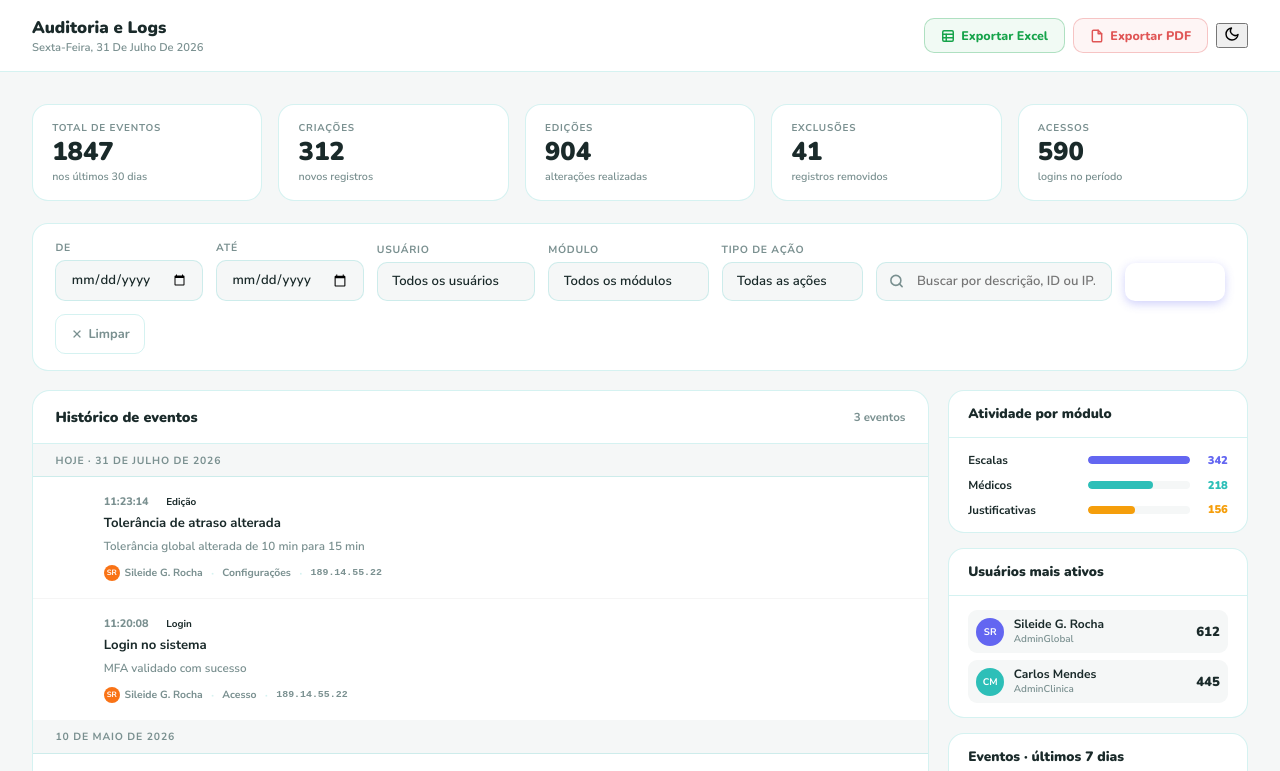
Test: <AdminAuditoria /> › fecha panel de detalhes ao clicar no X
Click the element with class "aud-log-item" that starts with "Edição" at (480, 538), box [33,477,928,599]
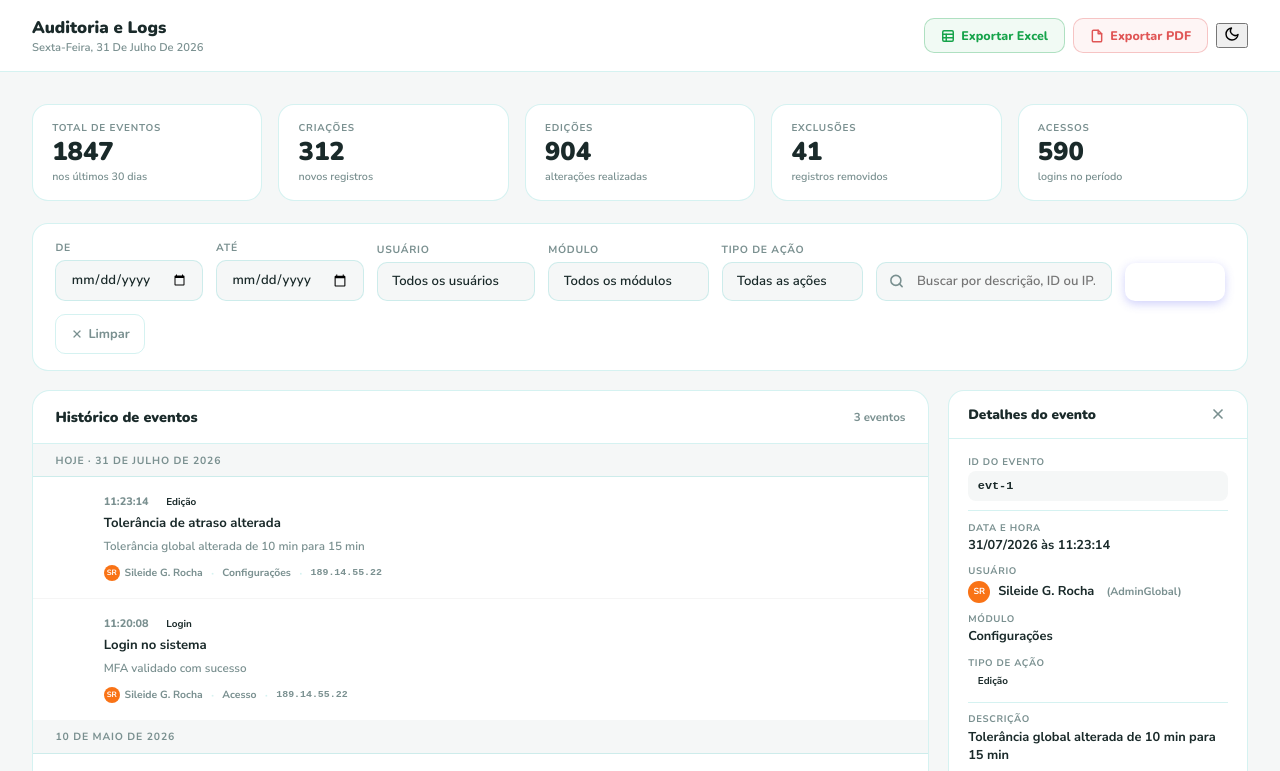
Now the text "Detalhes do evento" is shown, box [968,405,1096,424]
Click the button named "Fechar detalhes" at (1218, 414), box [1208,404,1228,424]
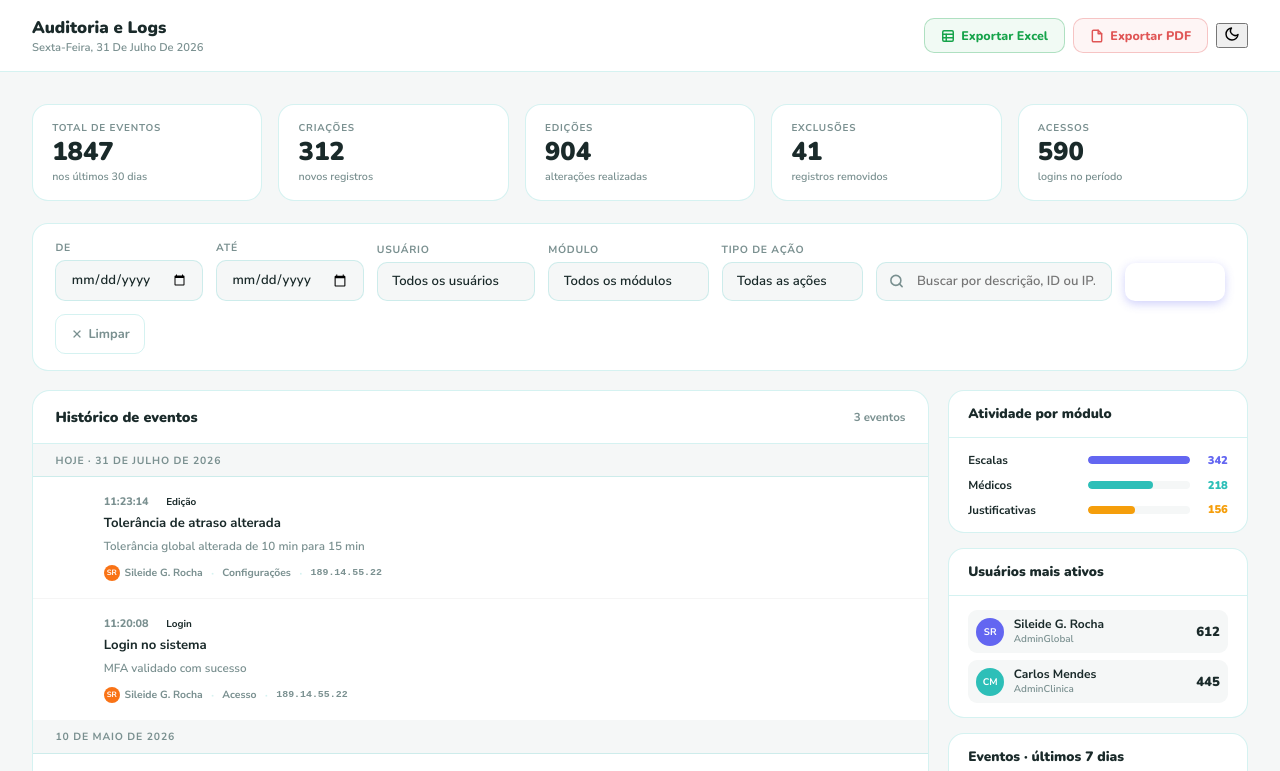
Now the text "Detalhes do evento" is gone
